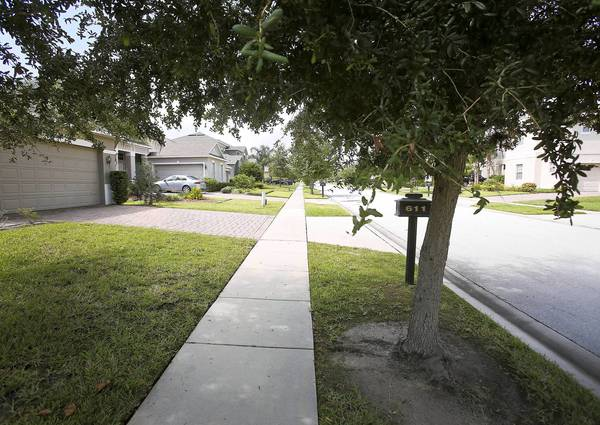tree: (252, 3, 600, 366)
